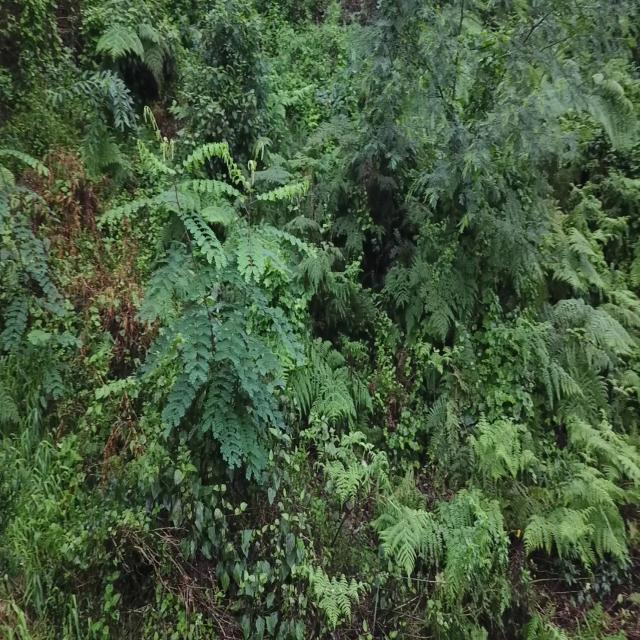Mysore-Thorn-Weed: (106, 101, 303, 520), (0, 143, 68, 342)
